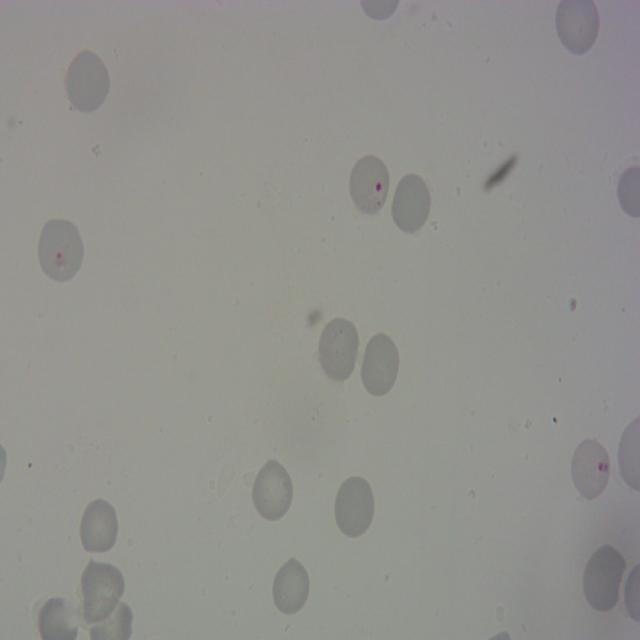leukocyte: (580, 544, 628, 615), (78, 558, 124, 624), (64, 48, 110, 114), (316, 316, 362, 382), (389, 170, 434, 236), (332, 474, 377, 540), (250, 457, 295, 523), (358, 331, 402, 398), (270, 555, 312, 618), (77, 496, 120, 556)
red blood cell: (36, 218, 89, 282), (349, 150, 390, 219), (570, 440, 613, 498)
